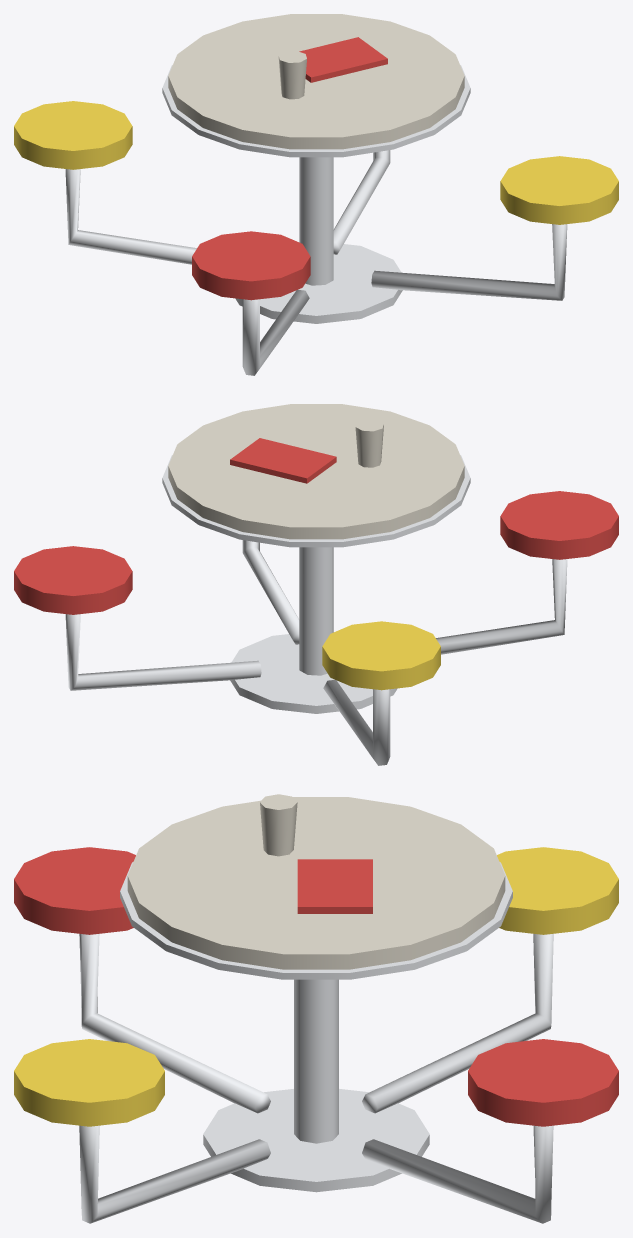
The model's file is mp_table.glb.
3 views of the same model, one above another, from view 1: azimuth 30°, elevation 25°; view 2: azimuth 150°, elevation 25°; view 3: azimuth 270°, elevation 25° (orthographic). The views are drawn at different scales.
Visible parts, largest first — view 1: mp_table; view 2: mp_table; view 3: mp_table.
Part boxes in pixels (left/top/right/bottom): mp_table: left=14, top=14, right=618, bottom=375; mp_table: left=14, top=404, right=618, bottom=765; mp_table: left=14, top=794, right=618, bottom=1223.
Size of the model in its own units: 1.6 by 0.93 by 1.6.
